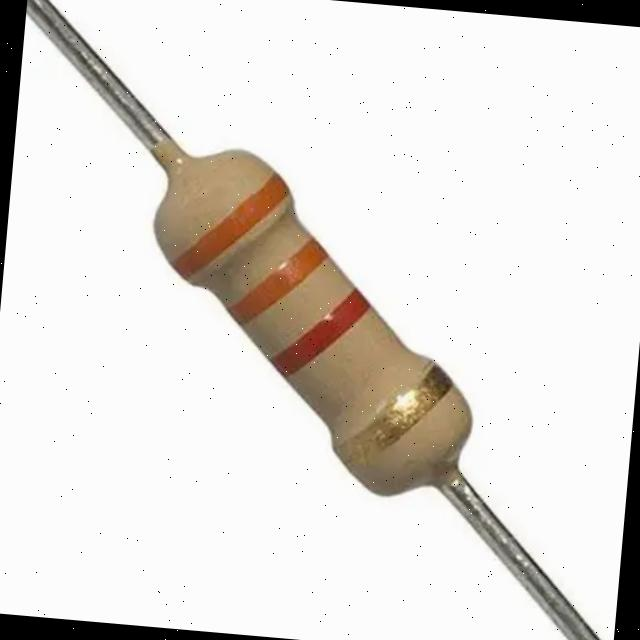gold: (335, 360, 456, 475)
orange: (171, 177, 292, 281), (224, 236, 328, 326)
red: (269, 285, 372, 379)
resistor: (102, 98, 520, 538)
